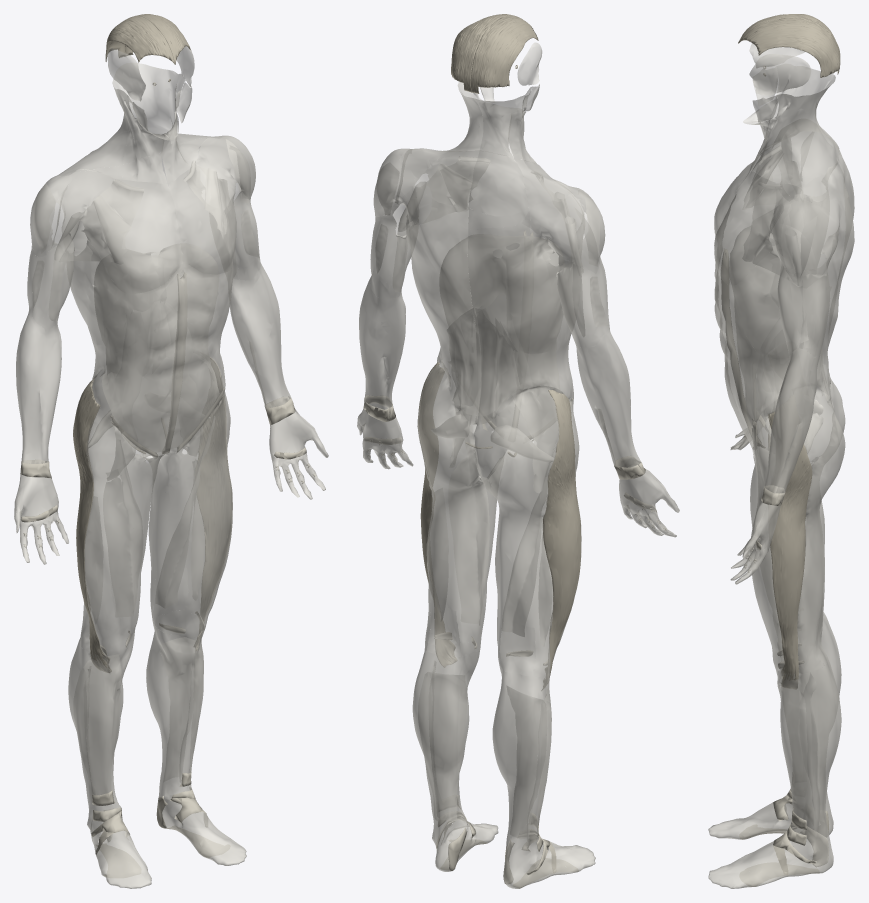
File: adult_male.fascia.LOD1.glb
The picture shows the model from 3 angles, left to right: view 1: azimuth 30°, elevation 25°; view 2: azimuth 150°, elevation 25°; view 3: azimuth 270°, elevation 25°; orthographic projection. The views are drawn at different scales.
Parts seen in each view (by area): view 1: ADULT.MALE.FASCIA.INVESTING_ABDOMINAL_FASCIA.R, ADULT.MALE.FASCIA.FASCIA_LATA.L, ADULT.MALE.FASCIA.INVESTING_ABDOMINAL_FASCIA.L, ADULT.MALE.FASCIA.FASCIA_LATA.R, ADULT.MALE.FASCIA.TRANSVERSALIS_FASCIA, ADULT.MALE.FASCIA.CRURAL_FASCIA.L, ADULT.MALE.FASCIA.CRURAL_FASCIA.R, ADULT.MALE.FASCIA.PECTORAL_FASCIA.R, ADULT.MALE.FASCIA.DIAPHRAGMATIC_FASCIA, ADULT.MALE.FASCIA.PECTORAL_FASCIA.L, ADULT.MALE.FASCIA.ILIOTIBIAL_TRACT.L, ADULT.MALE.FASCIA.ANTEBRACHIAL_FASCIA.R (+29 smaller); view 2: ADULT.MALE.FASCIA.INVESTING_ABDOMINAL_FASCIA.R, ADULT.MALE.FASCIA.FASCIA_LATA.R, ADULT.MALE.FASCIA.FASCIA_LATA.L, ADULT.MALE.FASCIA.CRURAL_FASCIA.R, ADULT.MALE.FASCIA.INVESTING_ABDOMINAL_FASCIA.L, ADULT.MALE.FASCIA.DIAPHRAGMATIC_FASCIA, ADULT.MALE.FASCIA.CRURAL_FASCIA.L, ADULT.MALE.FASCIA.SUPERFICIAL_INVESTING_CERVICAL_FASCIA.R, ADULT.MALE.FASCIA.ILIOTIBIAL_TRACT.R, ADULT.MALE.FASCIA.SUPERFICIAL_INVESTING_CERVICAL_FASCIA.L, ADULT.MALE.FASCIA.MEDIAL_FEMORAL_INTERMUSCULAR_SEPTUM.L, ADULT.MALE.FASCIA.ANTEBRACHIAL_FASCIA.R (+32 smaller); view 3: ADULT.MALE.FASCIA.CRURAL_FASCIA.L, ADULT.MALE.FASCIA.INVESTING_ABDOMINAL_FASCIA.L, ADULT.MALE.FASCIA.FASCIA_LATA.L, ADULT.MALE.FASCIA.ILIOTIBIAL_TRACT.L, ADULT.MALE.FASCIA.SUPERFICIAL_INVESTING_CERVICAL_FASCIA.L, ADULT.MALE.FASCIA.INVESTING_ABDOMINAL_FASCIA.R, ADULT.MALE.FASCIA.DELTOID_FASCIA.L, ADULT.MALE.FASCIA.PECTORAL_FASCIA.L, ADULT.MALE.FASCIA.ANTEBRACHIAL_FASCIA.L, ADULT.MALE.FASCIA.DIAPHRAGMATIC_FASCIA, ADULT.MALE.FASCIA.SUPERFICIAL_INVESTING_CERVICAL_FASCIA.R, ADULT.MALE.FASCIA.BRACHIAL_FASCIA.L (+25 smaller).
Part boxes in pixels (box(x1,y1,x2,y2)): ADULT.MALE.FASCIA.INVESTING_ABDOMINAL_FASCIA.R: box(57, 165, 184, 456); ADULT.MALE.FASCIA.FASCIA_LATA.L: box(140, 377, 232, 637); ADULT.MALE.FASCIA.INVESTING_ABDOMINAL_FASCIA.L: box(123, 143, 233, 452); ADULT.MALE.FASCIA.FASCIA_LATA.R: box(73, 370, 165, 658); ADULT.MALE.FASCIA.TRANSVERSALIS_FASCIA: box(102, 275, 219, 452); ADULT.MALE.FASCIA.CRURAL_FASCIA.L: box(146, 610, 246, 865); ADULT.MALE.FASCIA.CRURAL_FASCIA.R: box(68, 628, 151, 888); ADULT.MALE.FASCIA.PECTORAL_FASCIA.R: box(78, 178, 182, 294); ADULT.MALE.FASCIA.DIAPHRAGMATIC_FASCIA: box(94, 243, 218, 352); ADULT.MALE.FASCIA.PECTORAL_FASCIA.L: box(168, 158, 237, 274); ADULT.MALE.FASCIA.ILIOTIBIAL_TRACT.L: box(193, 357, 232, 651); ADULT.MALE.FASCIA.ANTEBRACHIAL_FASCIA.R: box(16, 315, 61, 463); ADULT.MALE.FASCIA.INVESTING_ABDOMINAL_FASCIA.R: box(468, 207, 579, 425); ADULT.MALE.FASCIA.FASCIA_LATA.R: box(474, 389, 581, 676); ADULT.MALE.FASCIA.FASCIA_LATA.L: box(417, 363, 506, 656); ADULT.MALE.FASCIA.CRURAL_FASCIA.R: box(492, 657, 595, 888); ADULT.MALE.FASCIA.INVESTING_ABDOMINAL_FASCIA.L: box(401, 177, 529, 424); ADULT.MALE.FASCIA.DIAPHRAGMATIC_FASCIA: box(439, 234, 564, 353); ADULT.MALE.FASCIA.CRURAL_FASCIA.L: box(412, 640, 498, 871); ADULT.MALE.FASCIA.SUPERFICIAL_INVESTING_CERVICAL_FASCIA.R: box(469, 86, 570, 216); ADULT.MALE.FASCIA.ILIOTIBIAL_TRACT.R: box(541, 390, 581, 690); ADULT.MALE.FASCIA.SUPERFICIAL_INVESTING_CERVICAL_FASCIA.L: box(399, 81, 519, 208); ADULT.MALE.FASCIA.MEDIAL_FEMORAL_INTERMUSCULAR_SEPTUM.L: box(448, 424, 489, 625); ADULT.MALE.FASCIA.ANTEBRACHIAL_FASCIA.R: box(575, 329, 640, 467); ADULT.MALE.FASCIA.CRURAL_FASCIA.L: box(708, 645, 841, 888); ADULT.MALE.FASCIA.INVESTING_ABDOMINAL_FASCIA.L: box(714, 186, 854, 447); ADULT.MALE.FASCIA.FASCIA_LATA.L: box(751, 388, 845, 673); ADULT.MALE.FASCIA.ILIOTIBIAL_TRACT.L: box(768, 395, 812, 689); ADULT.MALE.FASCIA.SUPERFICIAL_INVESTING_CERVICAL_FASCIA.L: box(743, 78, 848, 205); ADULT.MALE.FASCIA.INVESTING_ABDOMINAL_FASCIA.R: box(714, 158, 854, 439); ADULT.MALE.FASCIA.DELTOID_FASCIA.L: box(771, 183, 842, 288); ADULT.MALE.FASCIA.PECTORAL_FASCIA.L: box(714, 171, 776, 285); ADULT.MALE.FASCIA.ANTEBRACHIAL_FASCIA.L: box(764, 348, 820, 493); ADULT.MALE.FASCIA.DIAPHRAGMATIC_FASCIA: box(730, 226, 815, 358); ADULT.MALE.FASCIA.SUPERFICIAL_INVESTING_CERVICAL_FASCIA.R: box(743, 64, 848, 179); ADULT.MALE.FASCIA.BRACHIAL_FASCIA.L: box(777, 247, 832, 357).
Size of the model in its own units: 0.6715 by 1.7 by 0.2685.
